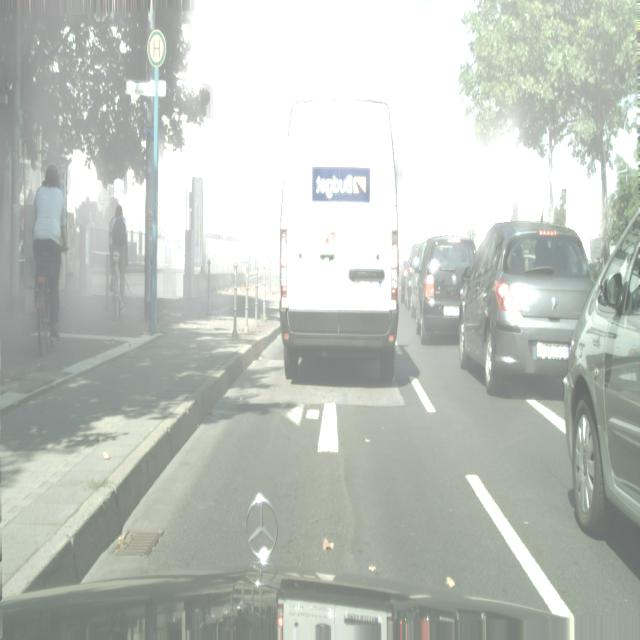car: (35, 271, 49, 356), (109, 250, 122, 321)
motorcycle: (279, 99, 399, 385)
person: (33, 162, 69, 346), (109, 203, 128, 304)
rider: (279, 99, 399, 386)
truck: (562, 209, 640, 536), (458, 221, 594, 396), (415, 236, 476, 343), (406, 241, 424, 311)
